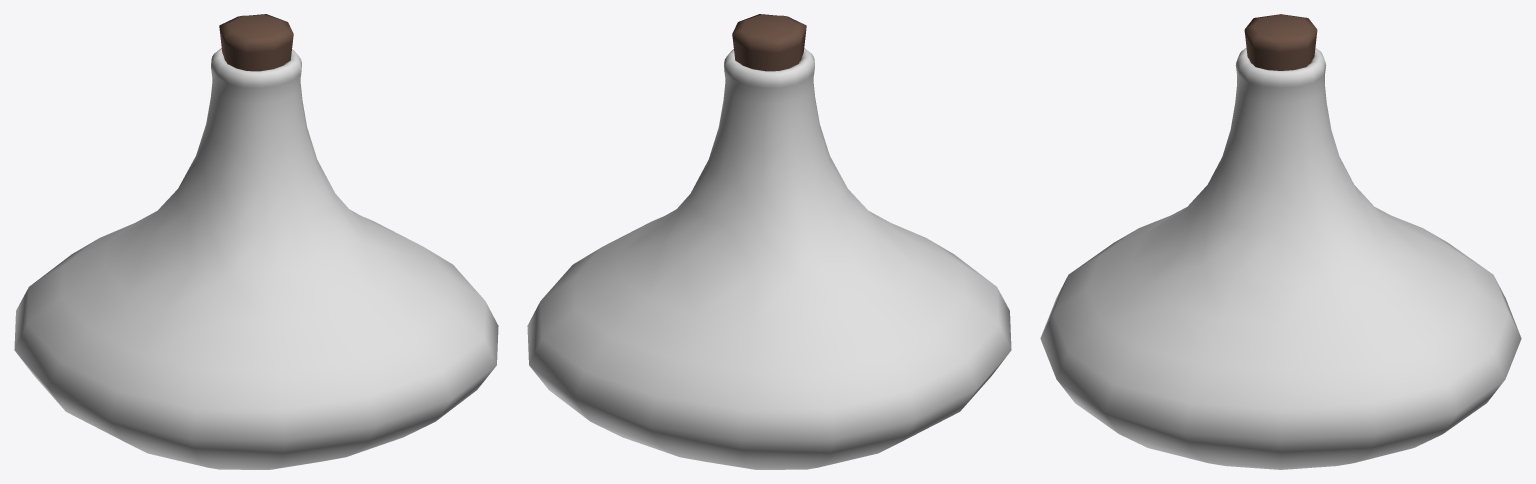
File: SM_Potion8_Filled.fbx
The picture shows the model from 3 angles, left to right: view 1: azimuth 30°, elevation 25°; view 2: azimuth 150°, elevation 25°; view 3: azimuth 270°, elevation 25°; orthographic projection.
Visible parts, largest first — view 1: SM_Potion8_Filled; view 2: SM_Potion8_Filled; view 3: SM_Potion8_Filled.
Part boxes in pixels (box(x1,y1,x2,y2)): SM_Potion8_Filled: box(14, 14, 498, 469); SM_Potion8_Filled: box(527, 14, 1011, 469); SM_Potion8_Filled: box(1040, 14, 1521, 469).
Size of the model in its own units: 70.35 by 68.21 by 70.35.
